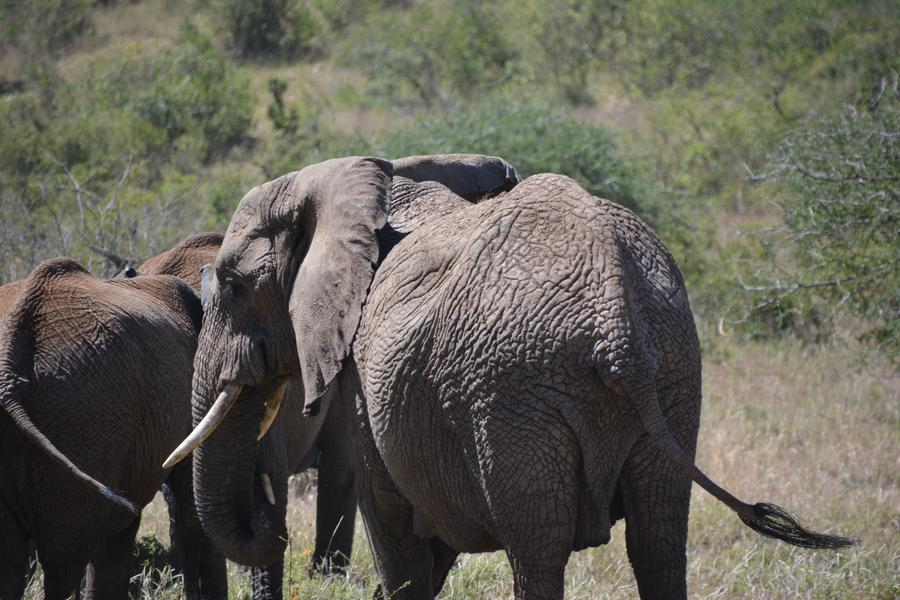elephant: (208, 171, 684, 578), (3, 256, 206, 537)
